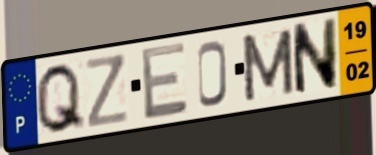0: (195, 39, 229, 110)
E: (139, 39, 190, 124)
M: (239, 26, 297, 105)
N: (289, 15, 339, 99)
Q: (33, 61, 88, 137)
Z: (83, 51, 131, 131)
